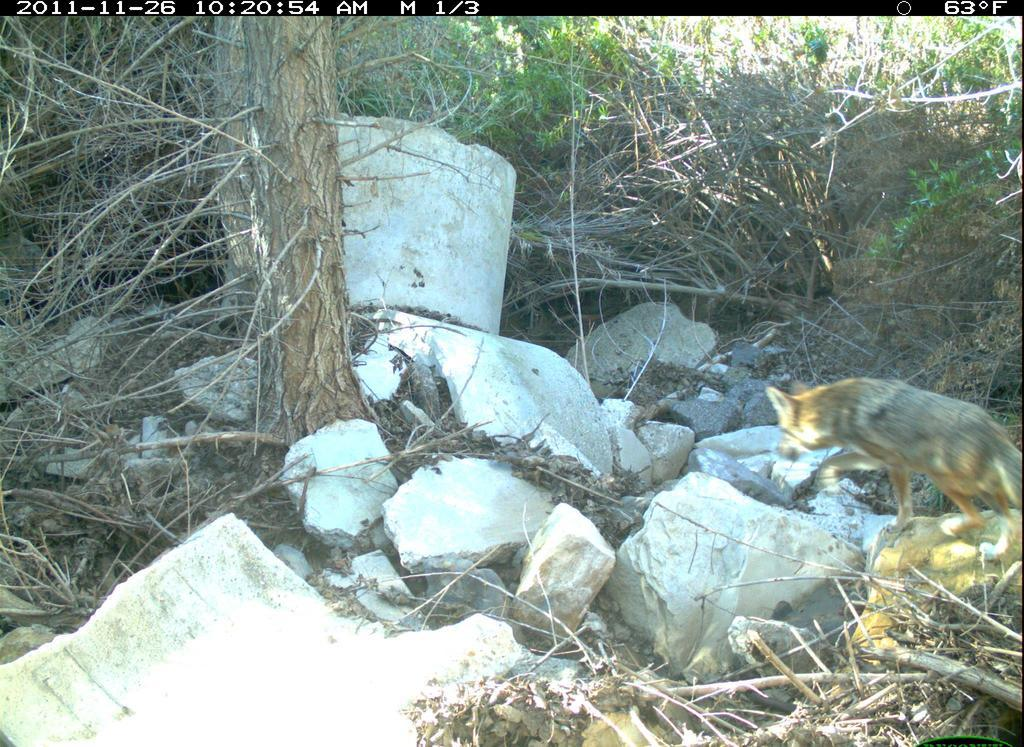coyote: (762, 373, 1023, 562)
